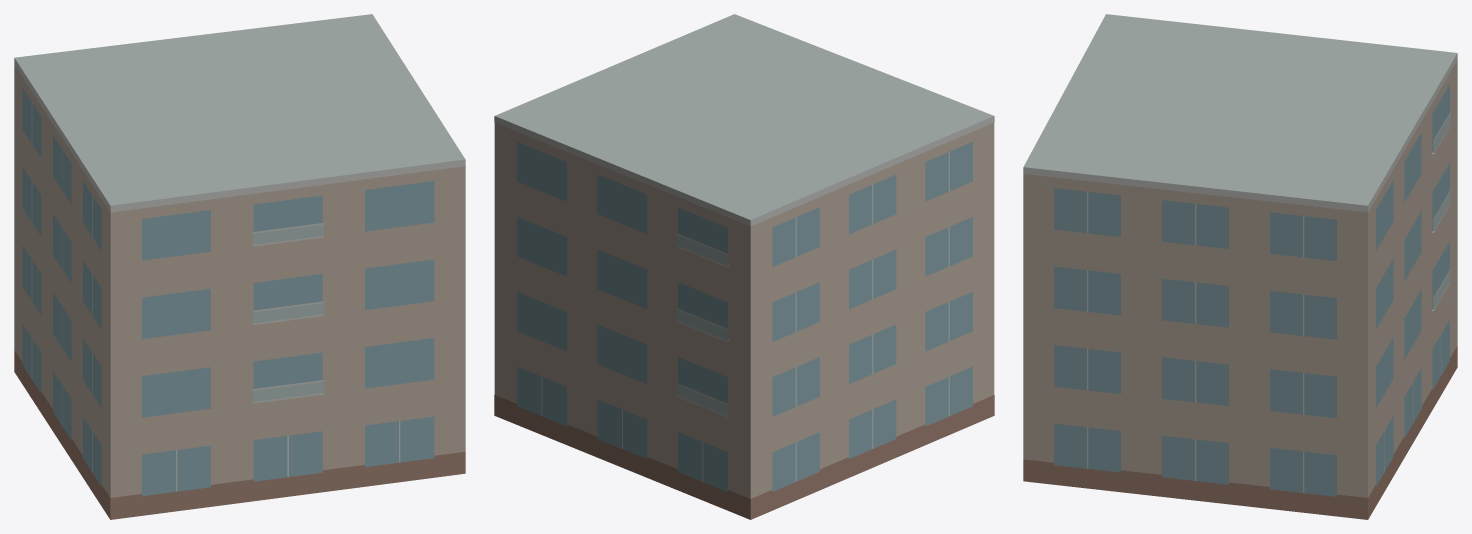
The model's file is survey-upis-32595779.glb.
3 renders of one model, left to right at view 1: azimuth 30°, elevation 25°; view 2: azimuth 150°, elevation 25°; view 3: azimuth 270°, elevation 25°, orthographic. The views are drawn at different scales.
Visible parts, largest first — view 1: survey-upis-32595779.tmp; view 2: survey-upis-32595779.tmp; view 3: survey-upis-32595779.tmp.
Part boxes in pixels (x1=…): survey-upis-32595779.tmp: x1=14, y1=14, x2=465, y2=519; survey-upis-32595779.tmp: x1=494, y1=14, x2=994, y2=519; survey-upis-32595779.tmp: x1=1023, y1=14, x2=1457, y2=519.
Bounding box in the file's own units: 14.93 × 11.4 × 14.29.
